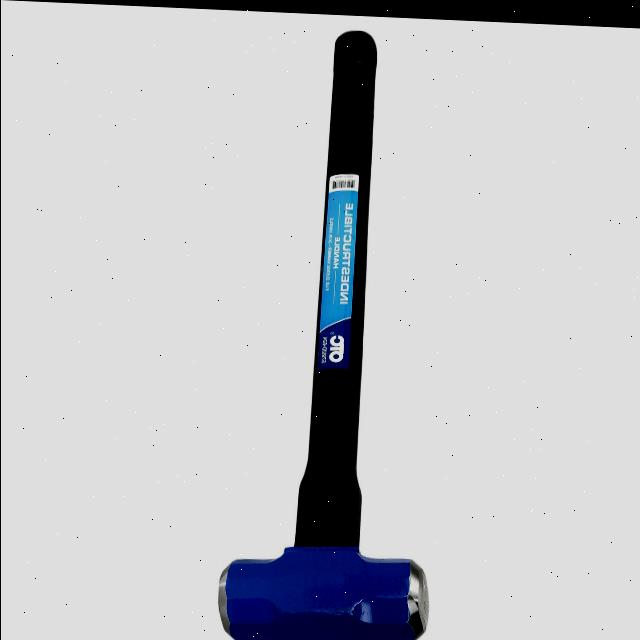hammer: (210, 14, 440, 640)
